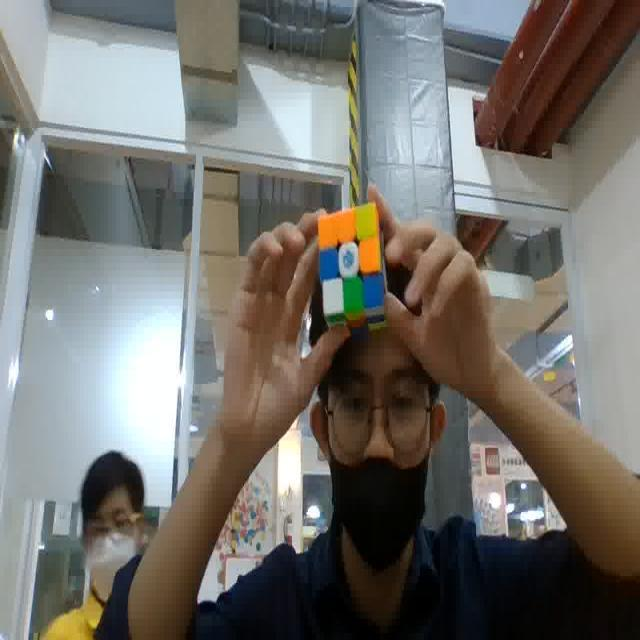Rub: (315, 199, 390, 333)
